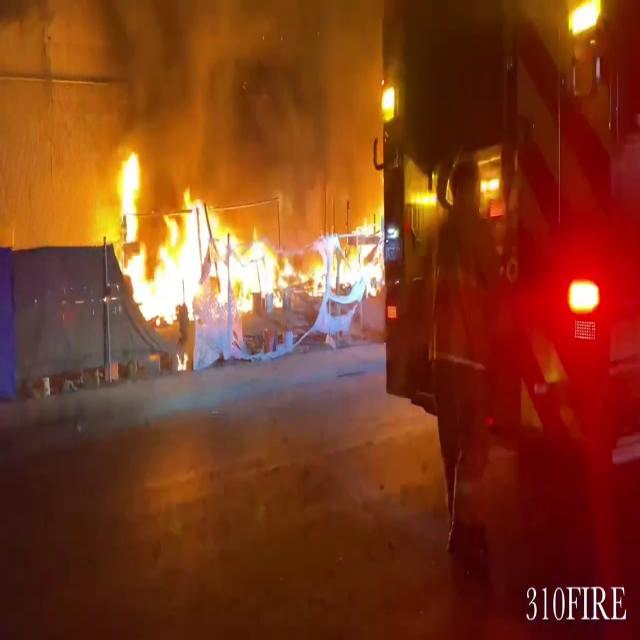Fire: (108, 144, 288, 327)
Smoke: (2, 0, 390, 196)
